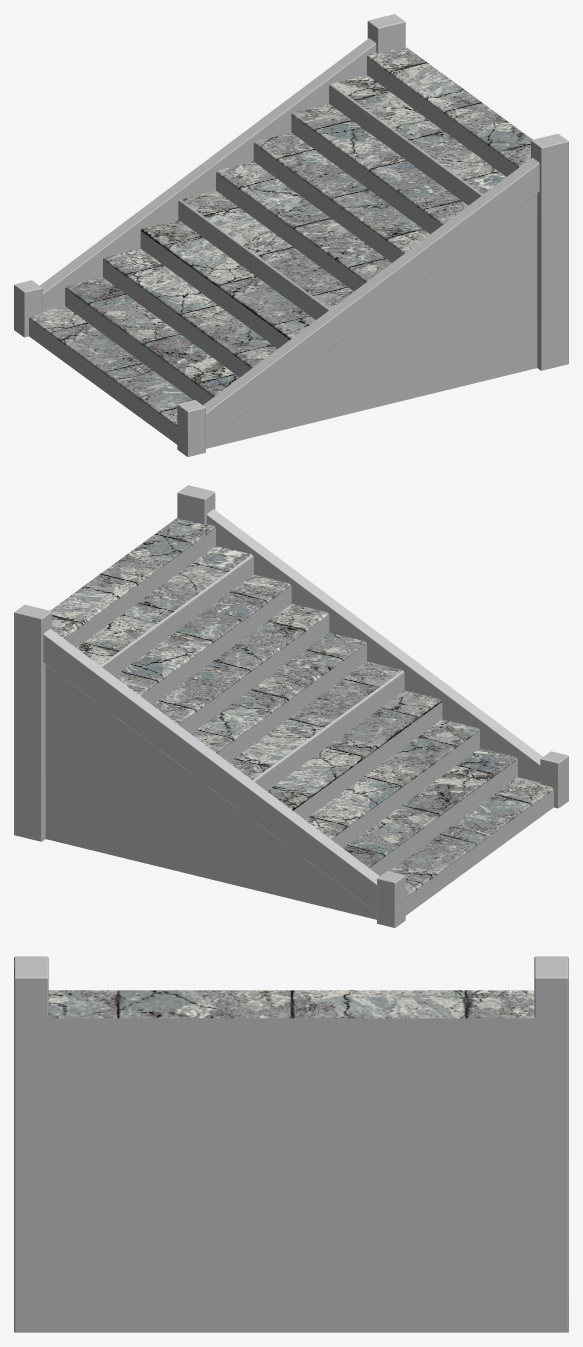
Rendered from Treppe_2m.gltf.
The picture shows the model from 3 angles, top to bottom: view 1: azimuth 30°, elevation 25°; view 2: azimuth 150°, elevation 25°; view 3: azimuth 270°, elevation 25°; orthographic projection. The views are drawn at different scales.
Parts seen in each view (by area): view 1: Treppe_2m; view 2: Treppe_2m; view 3: Treppe_2m.
Boxes of the visible parts, x1,y1,x2,y2 form: Treppe_2m: (14, 14, 568, 456); Treppe_2m: (14, 485, 568, 927); Treppe_2m: (14, 956, 568, 1332).
Bounding box in the file's own units: 4.05 × 2.26 × 3.2.
